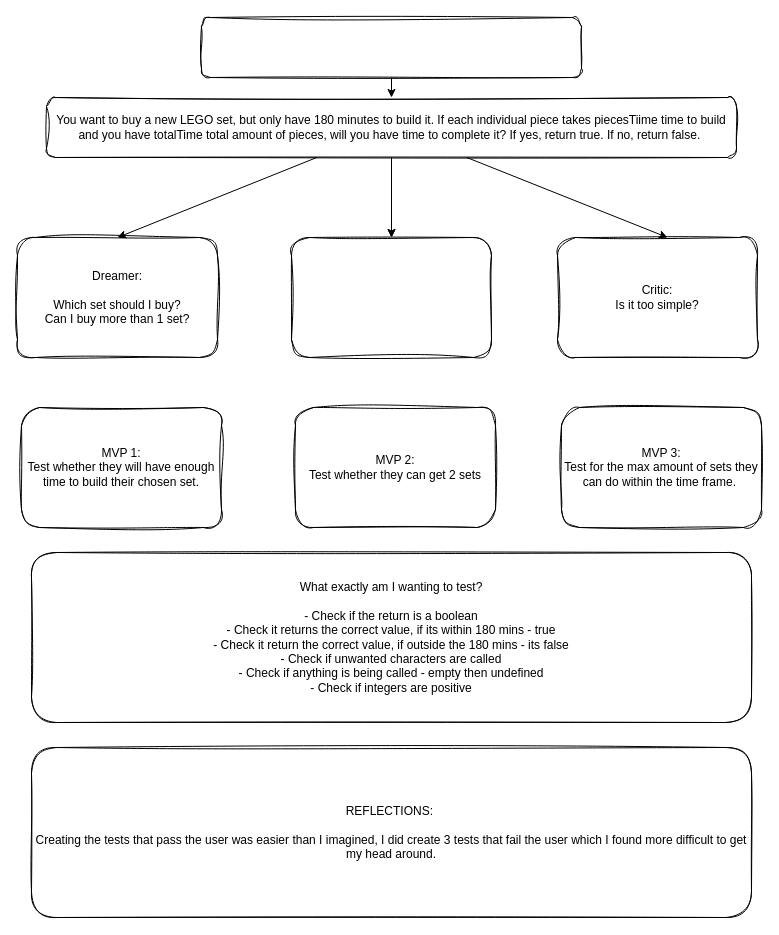
The diagram is 779 pixels wide and 935 high, and some of its shapes have lost their labels. Here are the shapes that lost their labels. From the top down, the centre of each, then its label:
pixel 391 47: GAME OBJECTIVE:
pixel 391 297: Realist: Check if the chosen set is doable within the time frame
